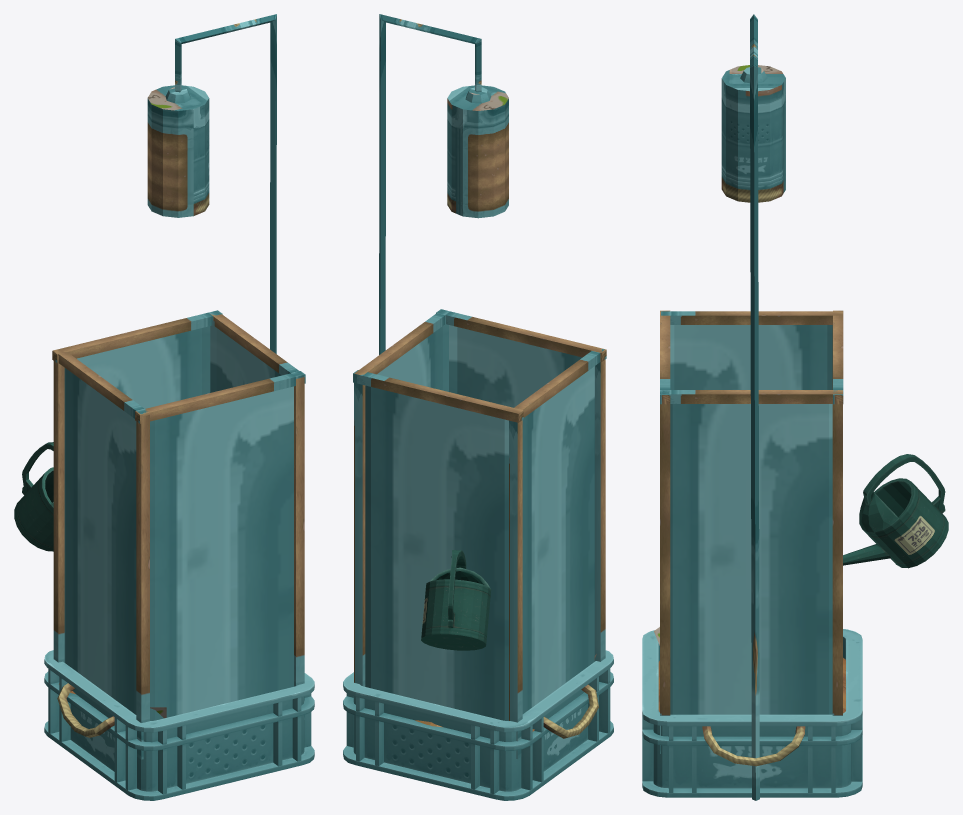
Rendered from P_FlowerPot_011_S1_M01deng.obj.
3 views of the same model, side by side, from view 1: azimuth 30°, elevation 25°; view 2: azimuth 150°, elevation 25°; view 3: azimuth 270°, elevation 25° (orthographic). The views are drawn at different scales.
Bounding box in the file's own units: 1.14 × 3.74 × 1.41.
Materials: 3 (3 with a texture image).
